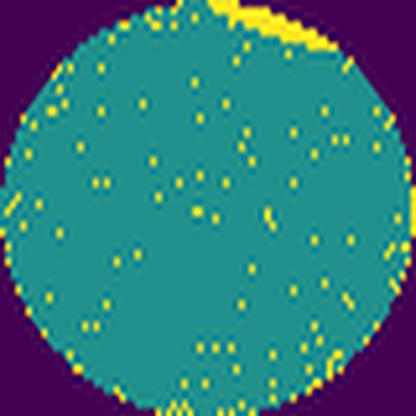Edge-Loc: (198, 0, 340, 57)
